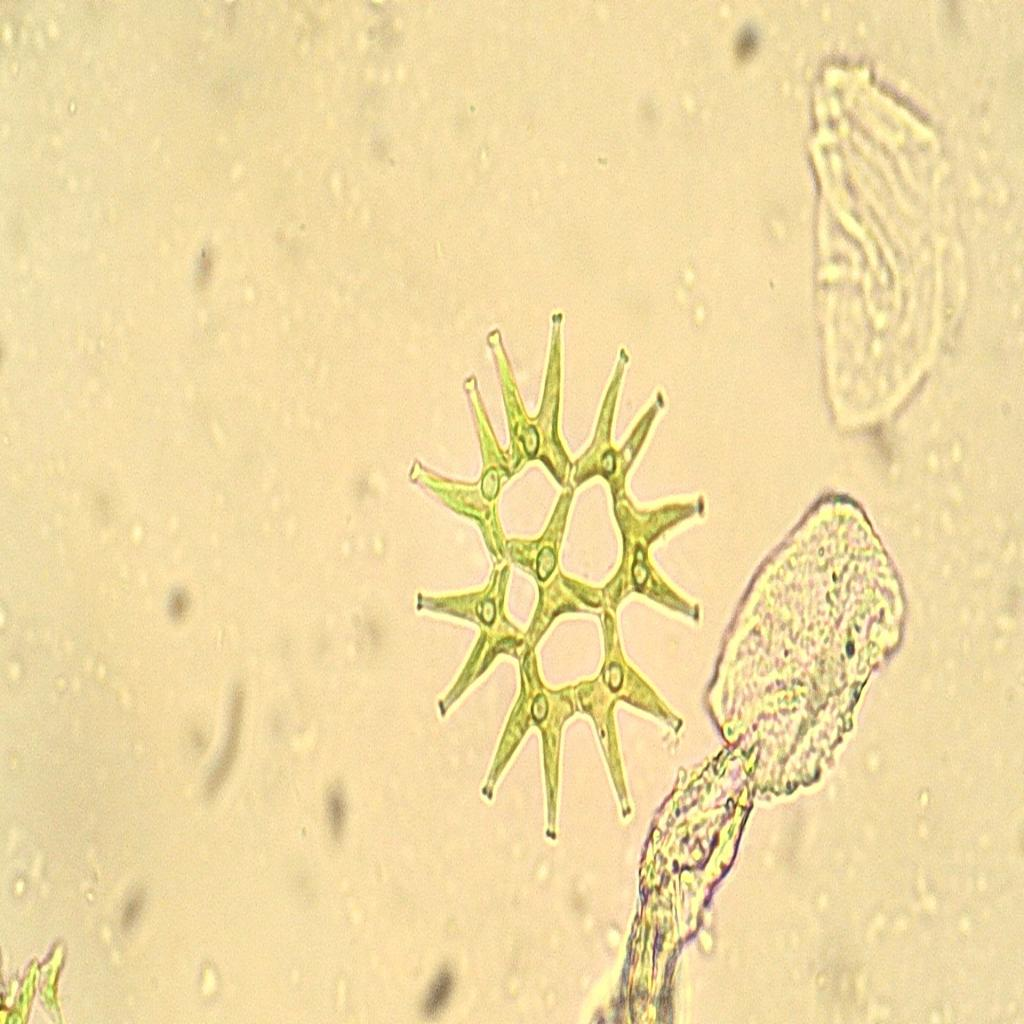Pediastrum_CTH: (392, 301, 714, 866)
